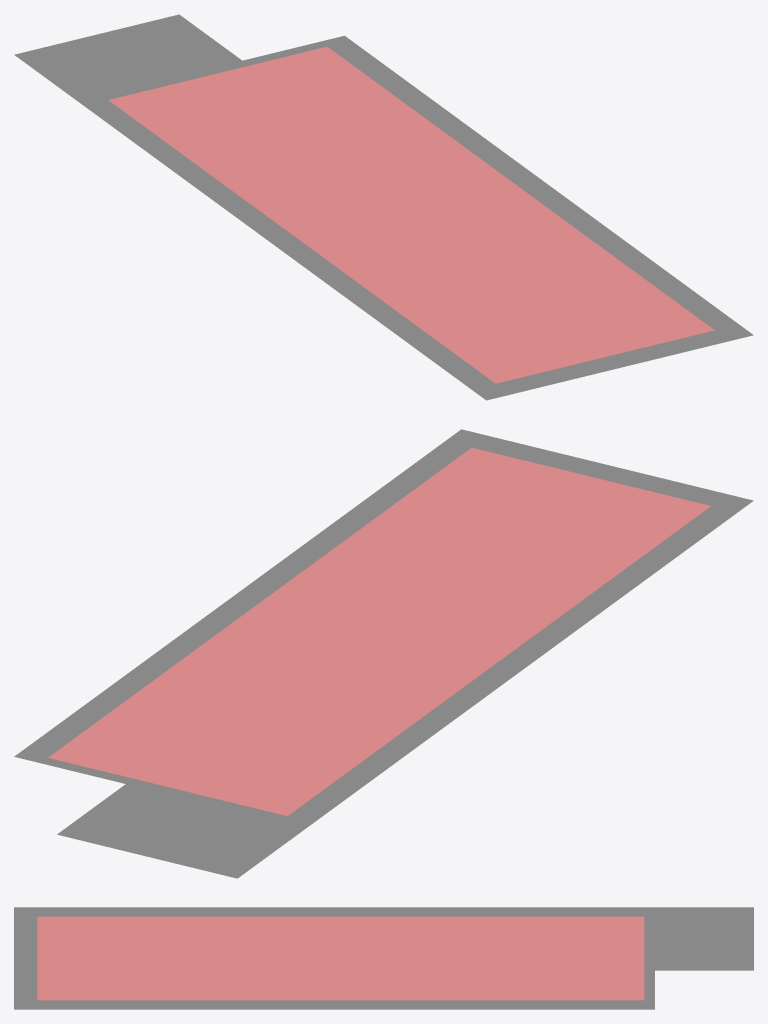
File: S_Envi_FZFBase_Ground_02b.gltf
The picture shows the model from 3 angles, top to bottom: view 1: azimuth 30°, elevation 25°; view 2: azimuth 150°, elevation 25°; view 3: azimuth 270°, elevation 25°; orthographic projection. The views are drawn at different scales.
Visible parts, largest first — view 1: S_Envi_FZFBase_Ground_02b; view 2: S_Envi_FZFBase_Ground_02b; view 3: S_Envi_FZFBase_Ground_02b.
Part boxes in pixels (<box>): S_Envi_FZFBase_Ground_02b: <box>14,14,753,400</box>; S_Envi_FZFBase_Ground_02b: <box>14,429,753,878</box>; S_Envi_FZFBase_Ground_02b: <box>14,907,753,1009</box>.
Bounding box in the file's own units: 4.92 × 2.75e-06 × 15.04.
